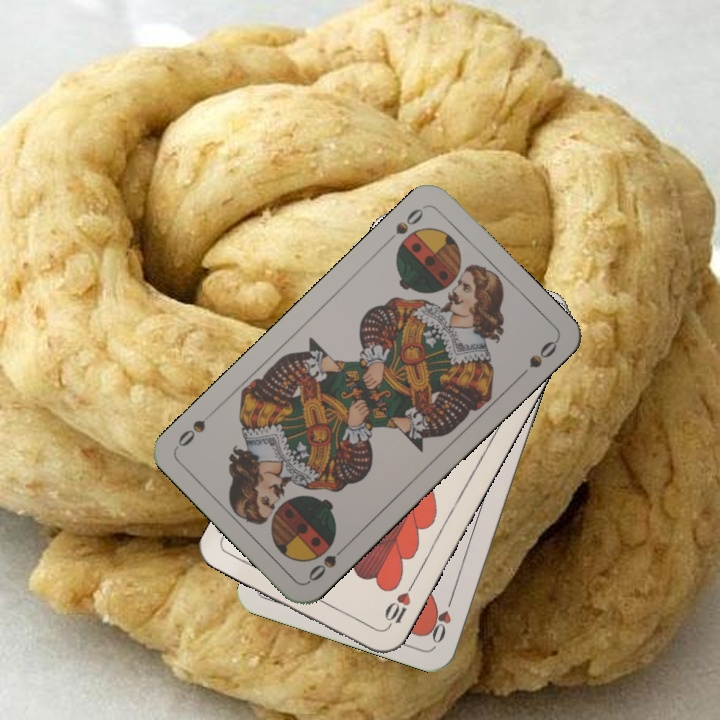H10: (380, 579, 417, 633)
HO: (425, 590, 457, 646)
SO: (304, 539, 351, 585), (381, 202, 428, 247)
